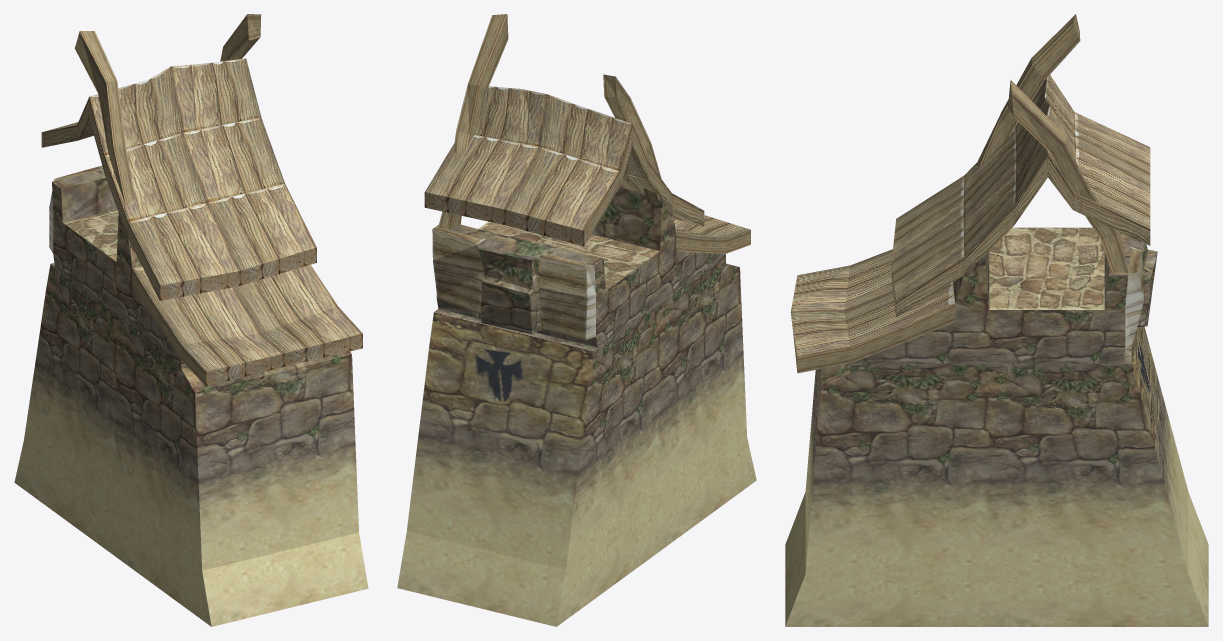
File: C3SMWA5H.obj
3 renders of one model, left to right at view 1: azimuth 30°, elevation 25°; view 2: azimuth 150°, elevation 25°; view 3: azimuth 270°, elevation 25°, orthographic. The views are drawn at different scales.
Visible parts, largest first — view 1: Node 0; view 2: Node 0; view 3: Node 0.
Part boxes in pixels (box(x1,y1,x2,y2)): Node 0: box(14, 14, 368, 626); Node 0: box(397, 14, 756, 626); Node 0: box(785, 14, 1208, 626).
Size of the model in its own units: 5 by 15.28 by 10.88.
Materials: 3 (3 with a texture image).
